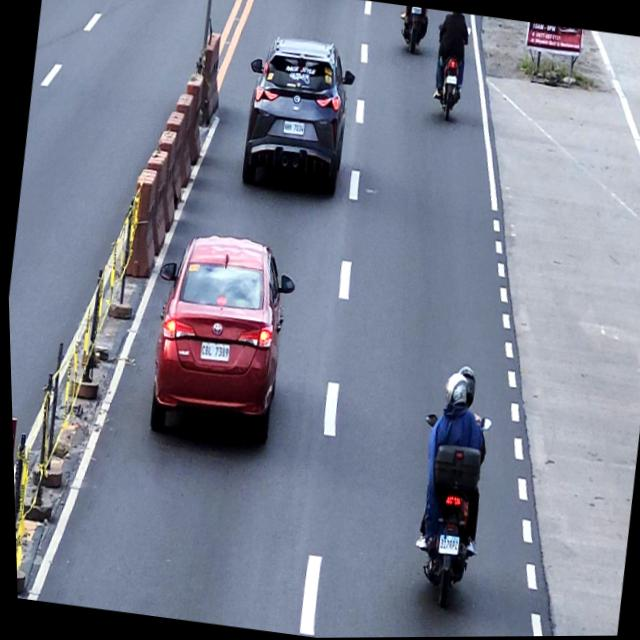Car: (135, 226, 303, 449), (233, 31, 362, 199)
License-Plate: (196, 339, 229, 364), (433, 534, 458, 557), (281, 121, 305, 137), (445, 75, 457, 86), (411, 8, 422, 16)
Motorcycle: (397, 407, 495, 613), (426, 26, 471, 123), (395, 5, 431, 57)
